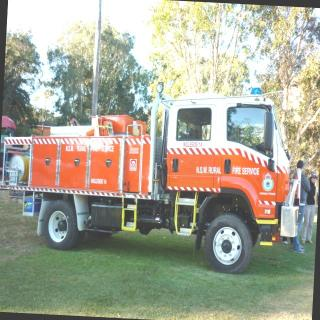Fire_truck: (0, 72, 307, 277)
